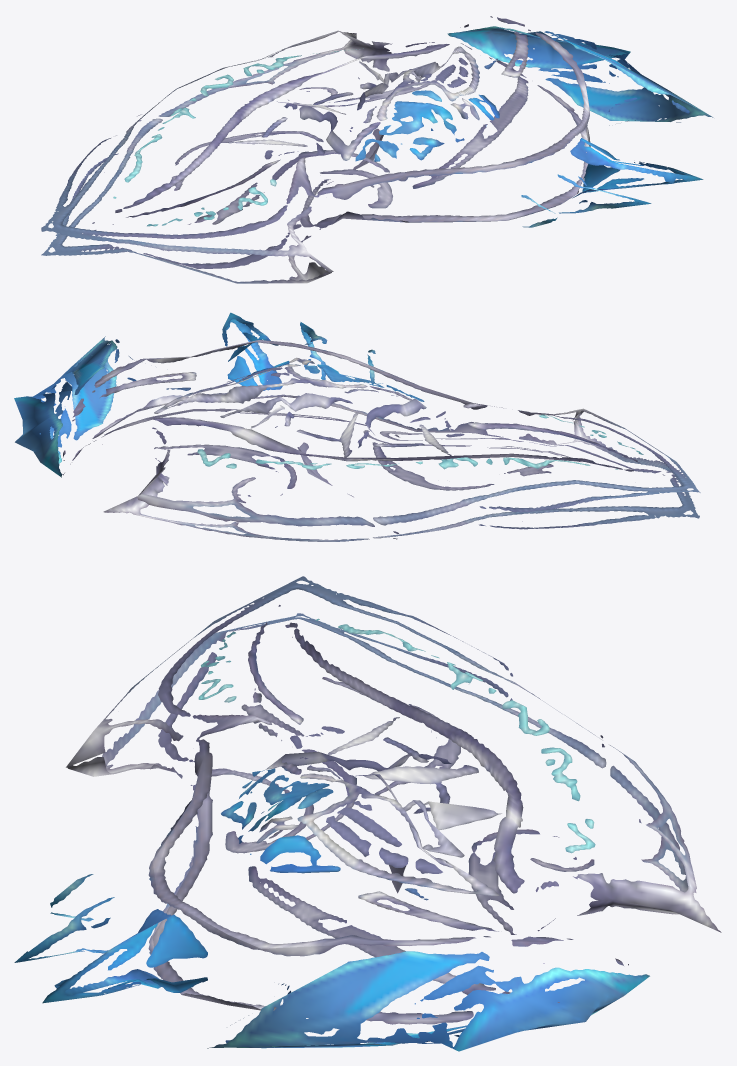
The model's file is H_Human_Mars_Ss_Dun_04.FBX.
The picture shows the model from 3 angles, top to bottom: view 1: azimuth 30°, elevation 25°; view 2: azimuth 150°, elevation 25°; view 3: azimuth 270°, elevation 25°; orthographic projection. The views are drawn at different scales.
Visible parts, largest first — view 1: Model02; view 2: Model02; view 3: Model02.
Part boxes in pixels (x1,y1,x2,y2): Model02: [41, 16, 713, 283]; Model02: [14, 312, 700, 541]; Model02: [14, 576, 721, 1051].
Size of the model in its own units: 142 by 20.72 by 91.71.
Materials: 1 (1 with a texture image).
